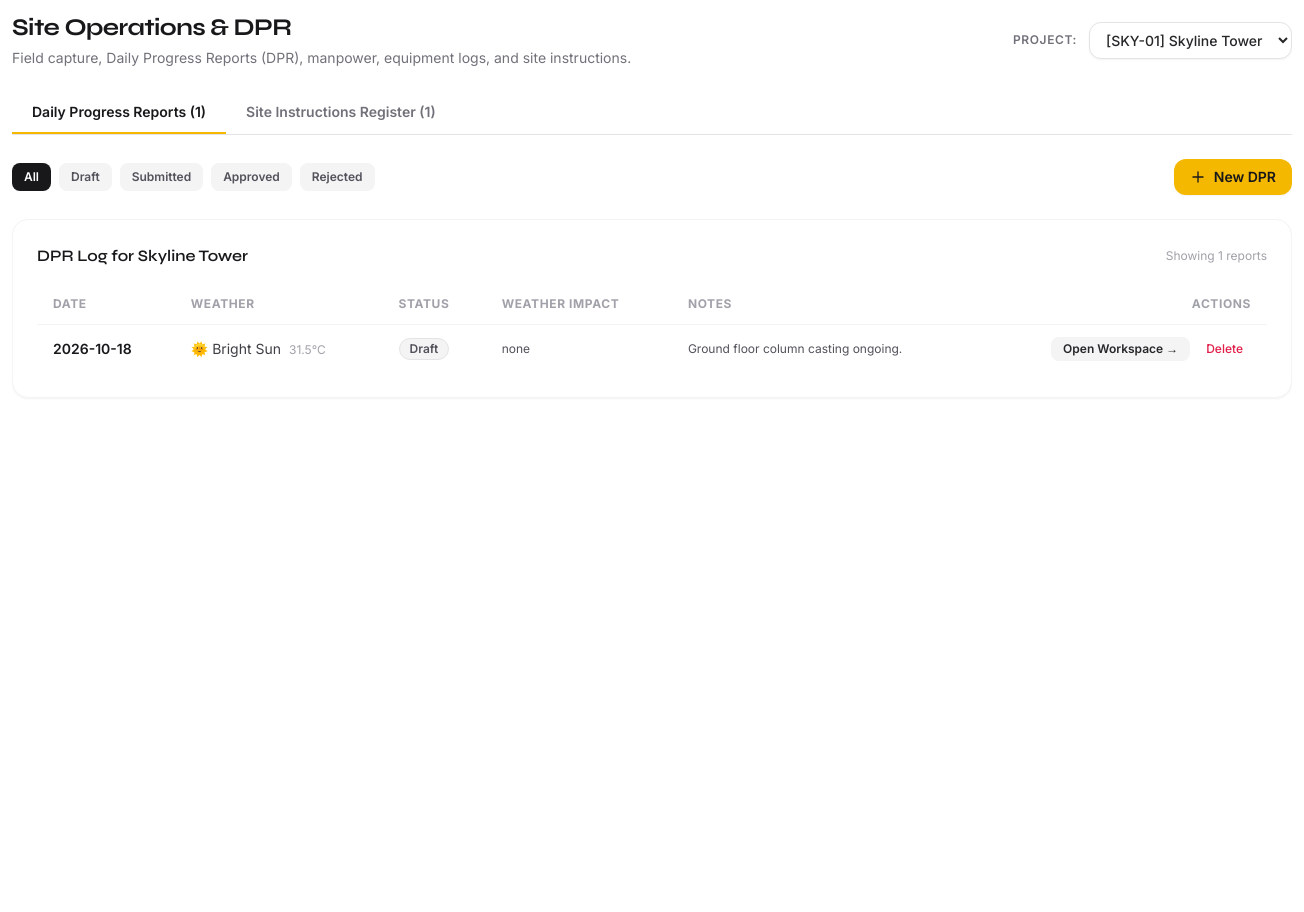
SiteOperationsPage › switches to equipment and work progress tabs in workspace
Click the button "Open Workspace →": (1121, 349) [1051,337,1190,361]
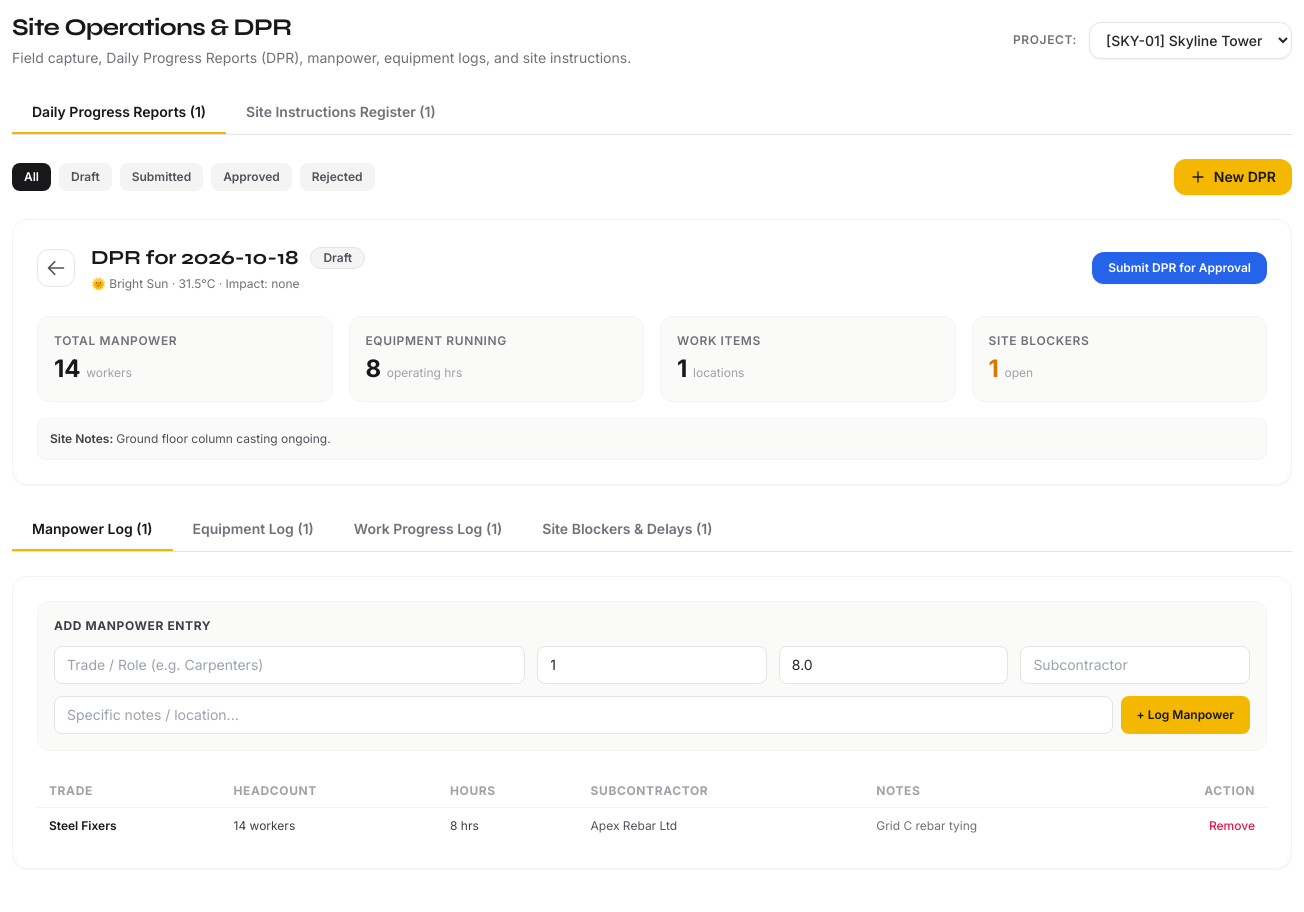
Switch to Equipment tab
Click the button "Equipment Log (1)": (253, 530) [173,509,334,551]
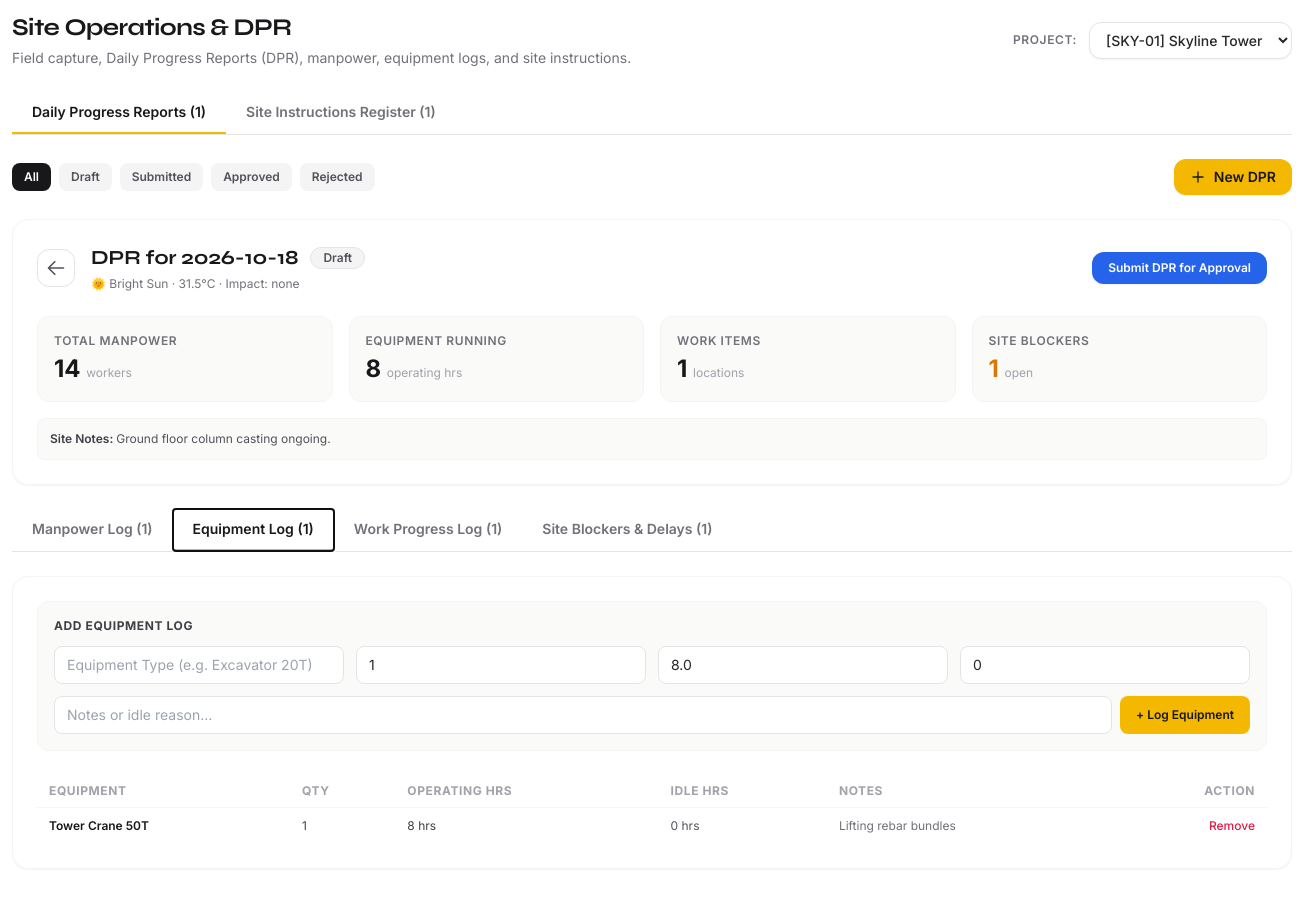
expect the text "Tower Crane 50T" is shown: met, box [37,808,290,844]
Switch to Work Progress tab
Click the button "Work Progress Log (1)": (428, 530) [334,509,522,551]
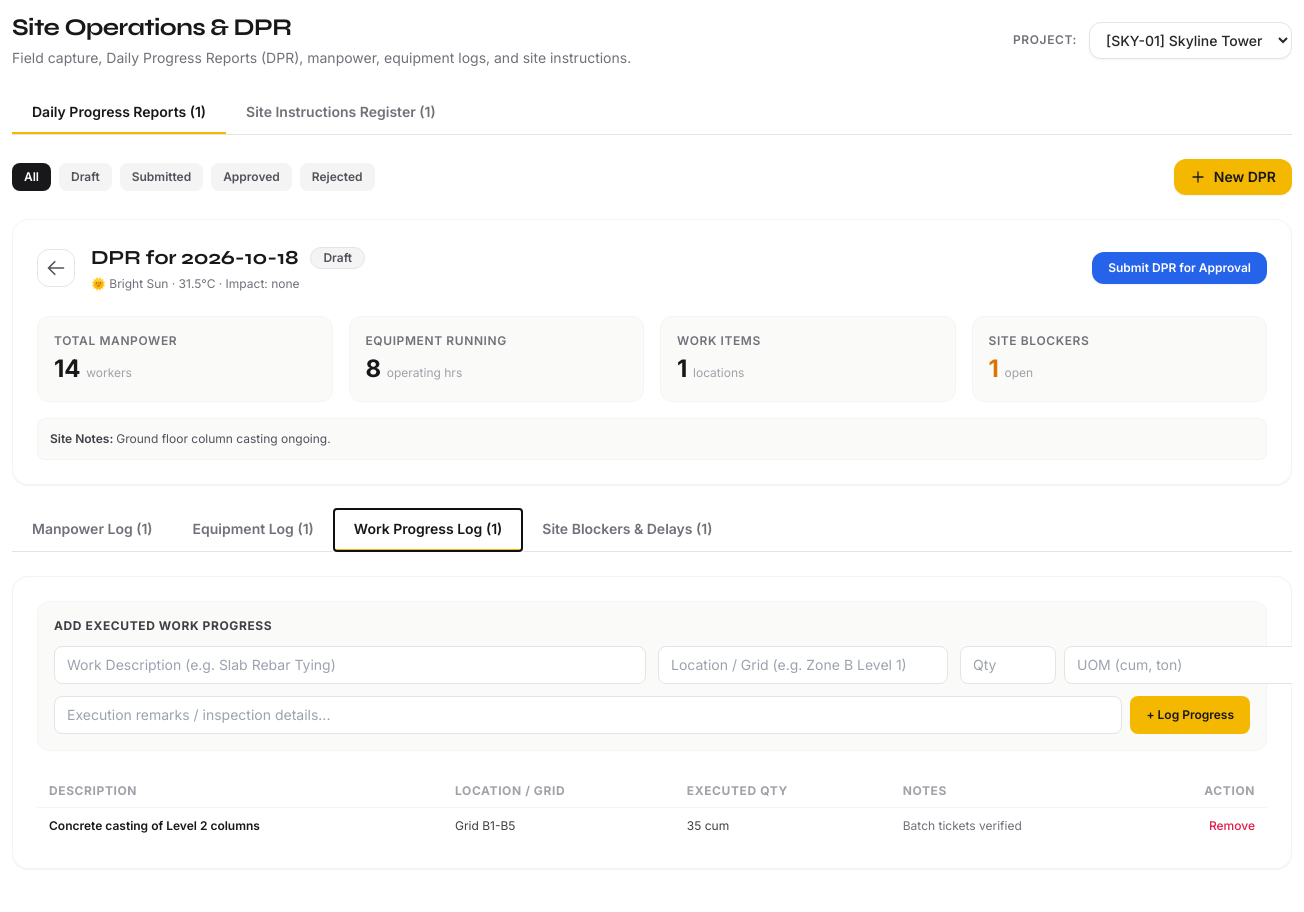
expect the text "Concrete casting of Level 2 columns" is shown: met, box [37,808,443,844]
Switch to Blockers tab
Click the button "Site Blockers & Delays (1)": (627, 530) [522,509,732,551]
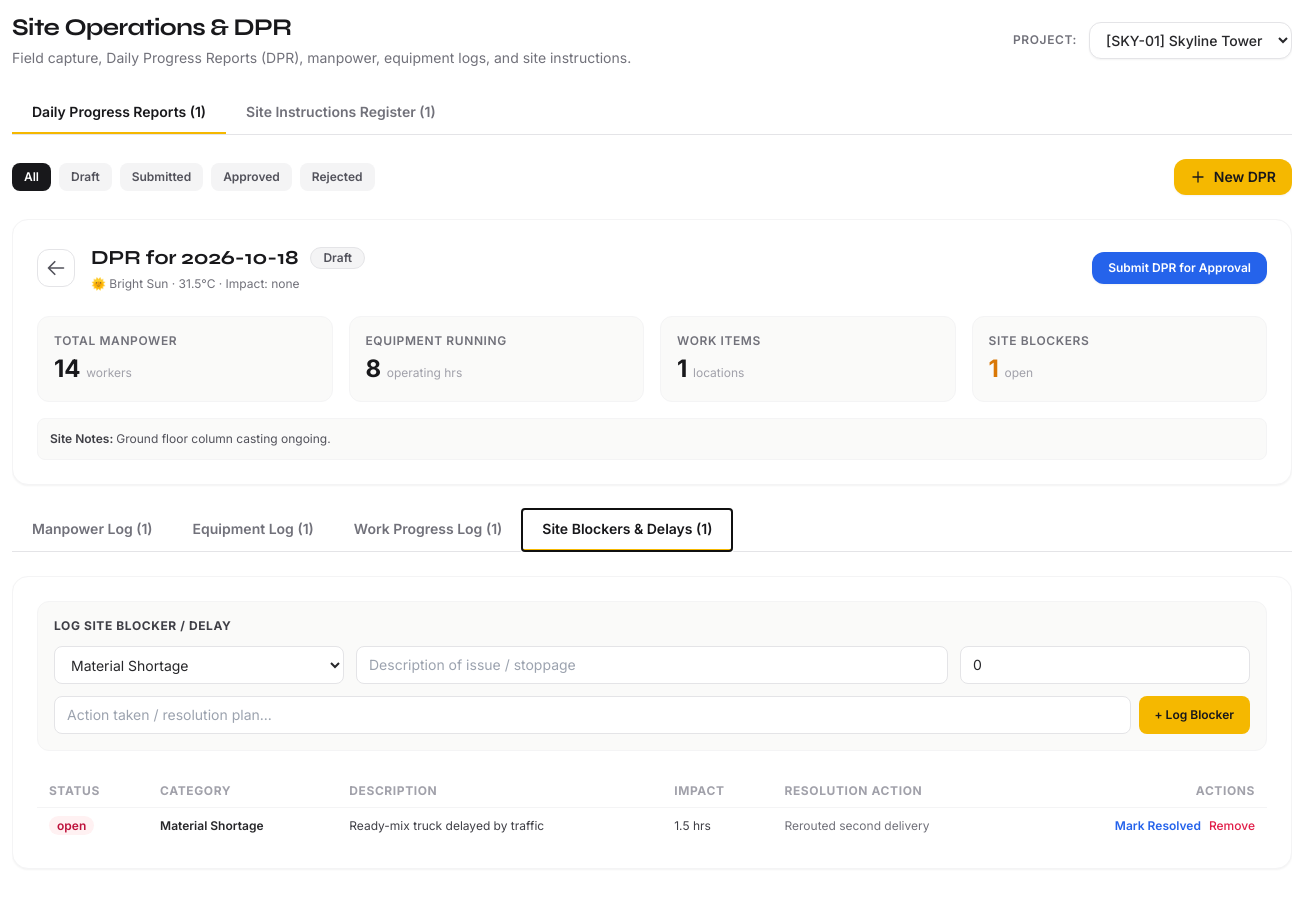
expect the text "Ready-mix truck delayed by traffic" is shown: met, box [337,808,662,844]
